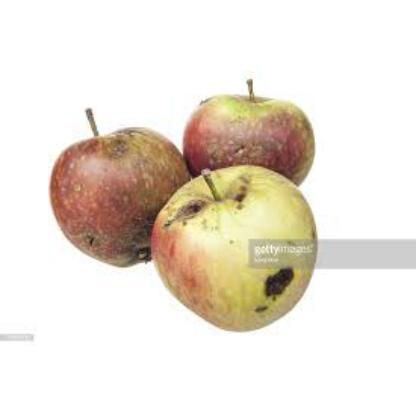damaged_apple: (153, 164, 331, 330), (48, 123, 186, 271), (180, 88, 314, 186)
